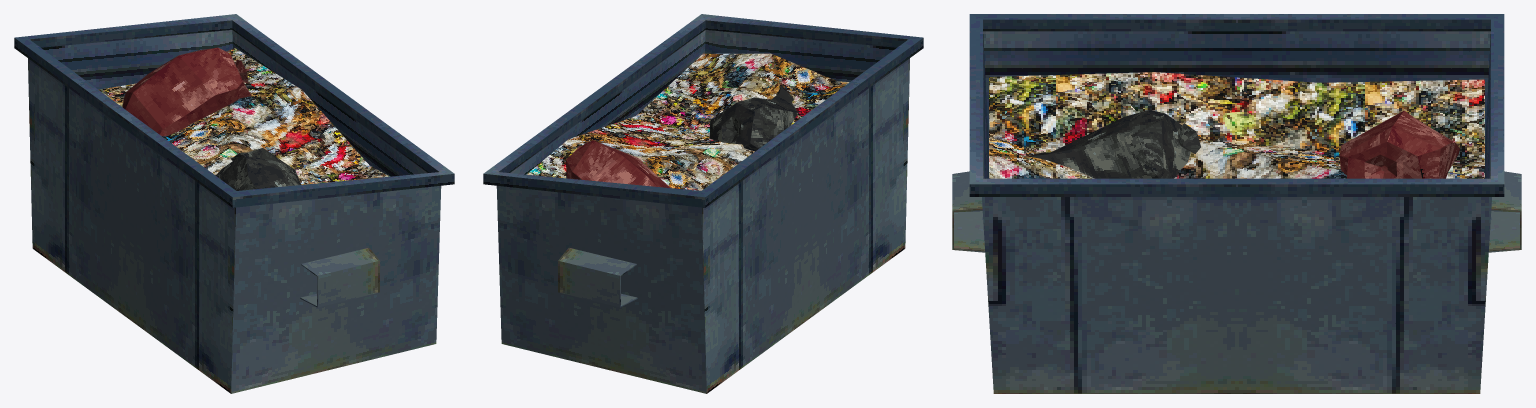
Rendered from dumpster_diagonal_full_no_lid_blue.glb.
3 views of the same model, side by side, from view 1: azimuth 30°, elevation 25°; view 2: azimuth 150°, elevation 25°; view 3: azimuth 270°, elevation 25° (orthographic). The views are drawn at different scales.
Parts seen in each view (by area): view 1: dumpster_diagonal_full_no_lid_blue; view 2: dumpster_diagonal_full_no_lid_blue; view 3: dumpster_diagonal_full_no_lid_blue.
Boxes of the visible parts, box(x1,y1,x2,y2) form: dumpster_diagonal_full_no_lid_blue: box(14, 14, 454, 393); dumpster_diagonal_full_no_lid_blue: box(483, 14, 923, 393); dumpster_diagonal_full_no_lid_blue: box(952, 14, 1521, 393).
Size of the model in its own units: 2.03 by 1.8 by 3.67.
Materials: 3 (3 with a texture image).
